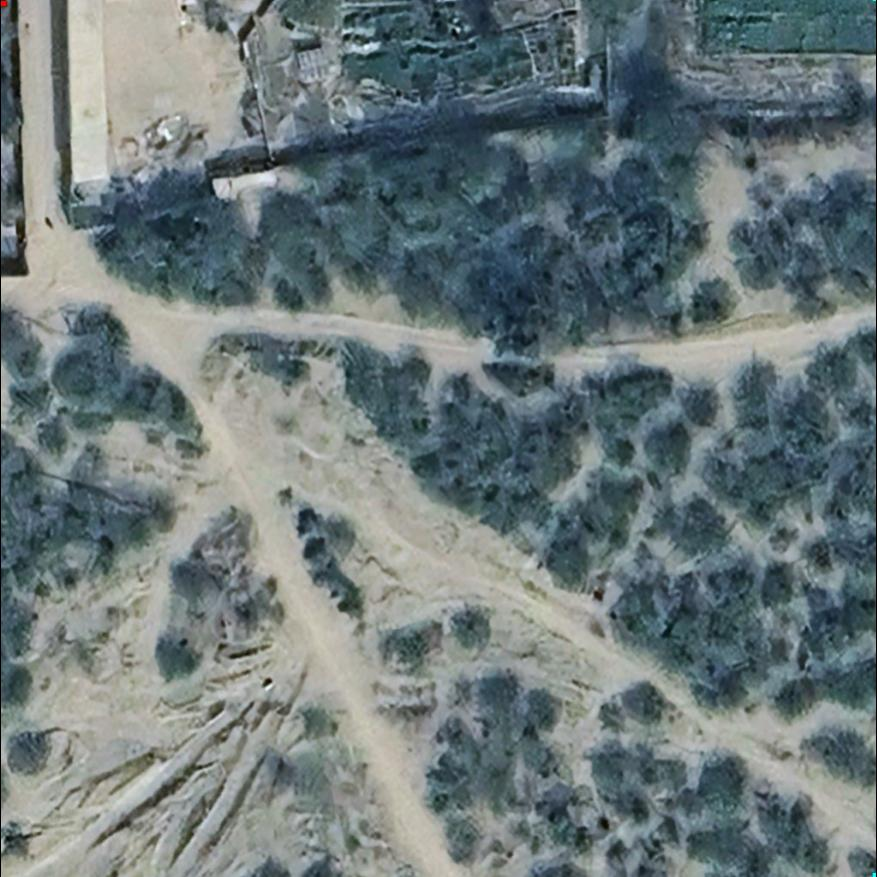Solarpanel: (290, 44, 336, 88)
